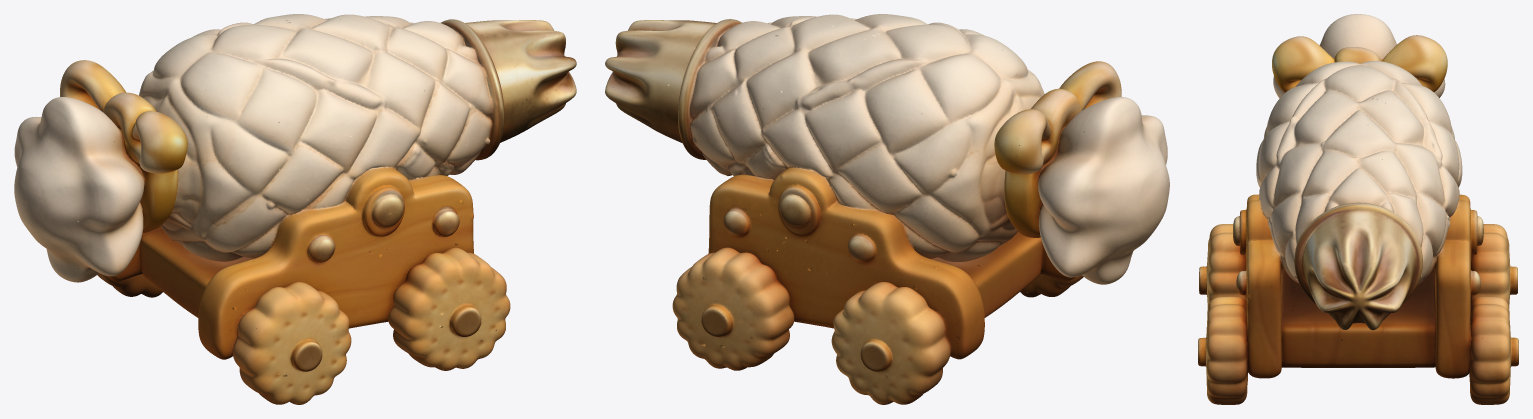
Rendered from board-cannon-sugar-blast.glb.
3 views of the same model, side by side, from view 1: azimuth 30°, elevation 25°; view 2: azimuth 150°, elevation 25°; view 3: azimuth 270°, elevation 25° (orthographic). The views are drawn at different scales.
Parts seen in each view (by area): view 1: tripo_node_e2e21a62-b5e9-4f0d-9572-14f24536fafc; view 2: tripo_node_e2e21a62-b5e9-4f0d-9572-14f24536fafc; view 3: tripo_node_e2e21a62-b5e9-4f0d-9572-14f24536fafc.
Part boxes in pixels (bbox=[...]): tripo_node_e2e21a62-b5e9-4f0d-9572-14f24536fafc: bbox=[14, 14, 576, 404]; tripo_node_e2e21a62-b5e9-4f0d-9572-14f24536fafc: bbox=[605, 14, 1169, 404]; tripo_node_e2e21a62-b5e9-4f0d-9572-14f24536fafc: bbox=[1198, 14, 1518, 404].
Bounding box in the file's own units: 1 × 0.5461 × 0.5826.
1 material, 1 textured.
